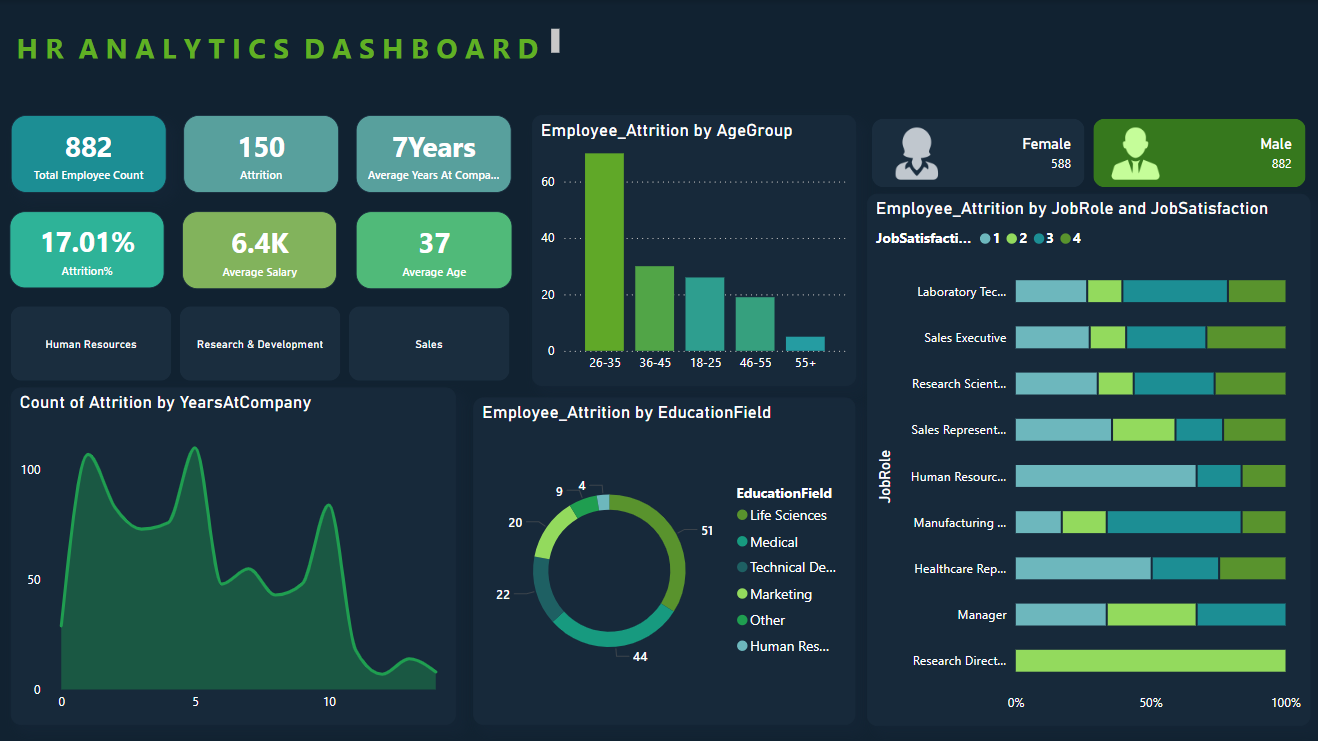

The page's visual inventory and layout, read from the dashboard file:
{"tool":"powerbi","page":{"name":"Page 1","canvas":[1280,720],"ordinal":0},"visuals":[{"type":"image","box":[1069,118,60.4,60.4],"z":0},{"type":"image","box":[857.6,118,60.4,60.4],"z":1000},{"type":"card","fields":{"Values":["HR_Analytics.Employee_Attrition"]},"box":[179.8,111.5,150,75],"z":2000},{"type":"card","fields":{"Values":["HR_Analytics.Years_With_Text"]},"box":[346.2,111.5,150,75],"z":3000},{"type":"card","fields":{"Values":["HR_Analytics.Attrition%"]},"box":[12.3,204.5,149.6,74.1],"z":4000},{"type":"card","fields":{"Values":["HR_Analytics.Avg_Salary"]},"box":[179.1,203.8,149.6,75.5],"z":5000},{"type":"card","fields":{"Values":["HR_Analytics.Avg_Age"]},"box":[345.8,203.8,150.9,75.5],"z":6000},{"type":"areaChart","fields":{"Y":["CountNonNull(HR_Analytics.Attrition)"],"Category":["HR_Analytics.YearsAtCompany"]},"box":[13.3,374,429.5,325.7],"z":7000},{"type":"card","fields":{"Values":["HR_Analytics.Employee_Count"]},"box":[13.5,111.5,150,75],"z":8000},{"type":"donutChart","fields":{"Y":["HR_Analytics.Employee_Attrition"],"Category":["HR_Analytics.EducationField"]},"box":[459.7,384.2,369.1,315.6],"z":9000},{"type":"columnChart","fields":{"Category":["HR_Analytics.AgeGroup"],"Y":["HR_Analytics.Employee_Attrition"]},"box":[516.4,111,312.5,261.8],"z":10000},{"type":"hundredPercentStackedBarChart","fields":{"Y":["HR_Analytics.Employee_Attrition"],"Series":["HR_Analytics.JobSatisfaction"],"Category":["HR_Analytics.JobRole"]},"box":[839.8,186.6,428.1,513.2],"z":11000},{"type":"advancedSlicerVisual","fields":{"Values":["HR_Analytics.Gender"]},"box":[839.8,109.8,428.1,76.8],"z":12000},{"type":"advancedSlicerVisual","fields":{"Values":["HR_Analytics.Department"]},"box":[8.2,290.9,494,82.3],"z":13000},{"type":"textbox","box":[8.2,23.3,539.3,38.4],"z":14000}]}

Visuals, with their boxes in screenshot pixels (x1, y1, x2, y2), scaled from the page's 1280x720 canvas onto the 1318x741 screenshot:
image: <bbox>1101, 121, 1163, 184</bbox>
image: <bbox>883, 121, 945, 184</bbox>
card - HR_Analytics.Employee_Attrition: <bbox>185, 115, 340, 192</bbox>
card - HR_Analytics.Years_With_Text: <bbox>356, 115, 511, 192</bbox>
card - HR_Analytics.Attrition%: <bbox>13, 210, 167, 287</bbox>
card - HR_Analytics.Avg_Salary: <bbox>184, 210, 338, 287</bbox>
card - HR_Analytics.Avg_Age: <bbox>356, 210, 511, 287</bbox>
areaChart - CountNonNull(HR_Analytics.Attrition) x HR_Analytics.YearsAtCompany: <bbox>14, 385, 456, 720</bbox>
card - HR_Analytics.Employee_Count: <bbox>14, 115, 168, 192</bbox>
donutChart - HR_Analytics.Employee_Attrition x HR_Analytics.EducationField: <bbox>473, 395, 853, 720</bbox>
columnChart - HR_Analytics.AgeGroup x HR_Analytics.Employee_Attrition: <bbox>532, 114, 854, 384</bbox>
hundredPercentStackedBarChart - HR_Analytics.Employee_Attrition x HR_Analytics.JobSatisfaction: <bbox>865, 192, 1306, 720</bbox>
advancedSlicerVisual - HR_Analytics.Gender: <bbox>865, 113, 1306, 192</bbox>
advancedSlicerVisual - HR_Analytics.Department: <bbox>8, 299, 517, 384</bbox>
textbox: <bbox>8, 24, 564, 63</bbox>
